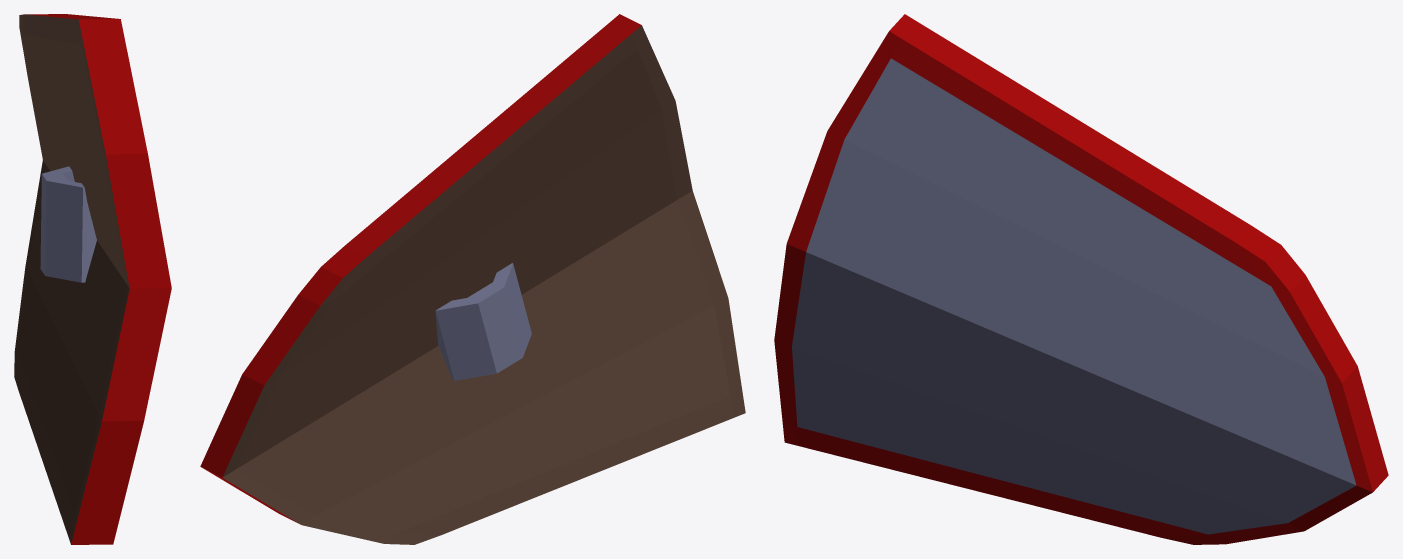
File: Shield-FL.fbx
3 renders of one model, left to right at view 1: azimuth 30°, elevation 25°; view 2: azimuth 150°, elevation 25°; view 3: azimuth 270°, elevation 25°, orthographic. The views are drawn at different scales.
Visible parts, largest first — view 1: Shield; view 2: Shield; view 3: Shield.
Boxes of the visible parts, bbox=[...] form: Shield: bbox=[14, 14, 171, 544]; Shield: bbox=[200, 14, 745, 544]; Shield: bbox=[774, 14, 1388, 544].
Size of the model in its own units: 31.72 by 47.65 by 56.37.
